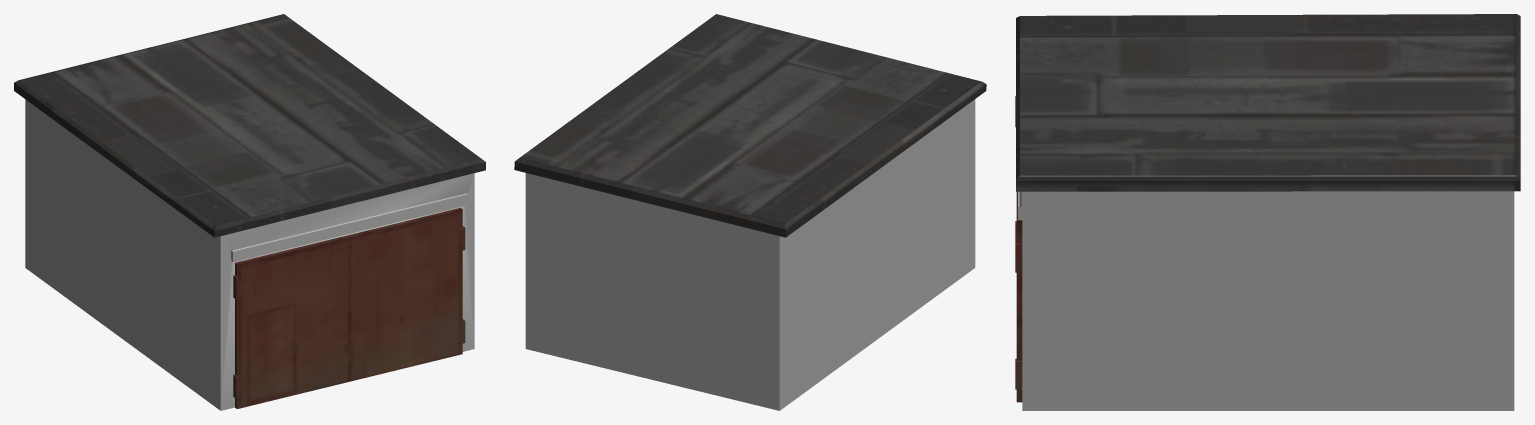
The model's file is bz_garage_02.fbx.
The picture shows the model from 3 angles, left to right: view 1: azimuth 30°, elevation 25°; view 2: azimuth 150°, elevation 25°; view 3: azimuth 270°, elevation 25°; orthographic projection. The views are drawn at different scales.
Parts seen in each view (by area): view 1: bz_garage_02; view 2: bz_garage_02; view 3: bz_garage_02.
Boxes of the visible parts, x1,y1,x2,y2 form: bz_garage_02: [14, 14, 485, 410]; bz_garage_02: [514, 14, 986, 410]; bz_garage_02: [1015, 14, 1520, 410].
Size of the model in its own units: 4.81 by 3.22 by 6.17.
